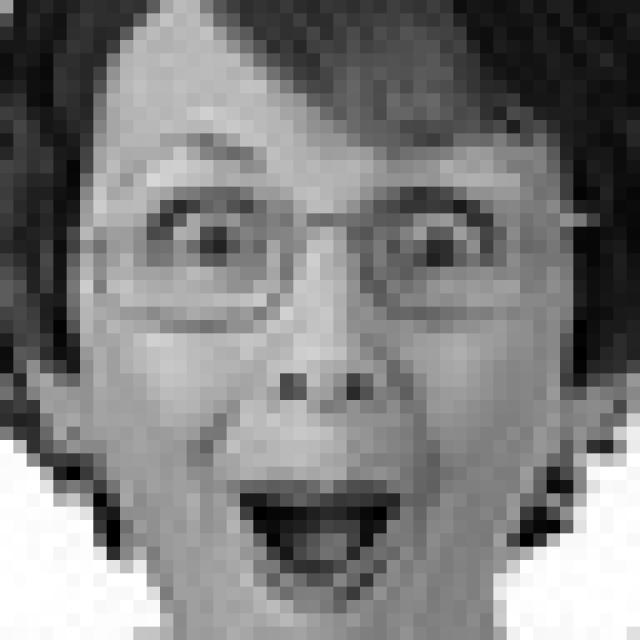surprise: (111, 129, 556, 614)
